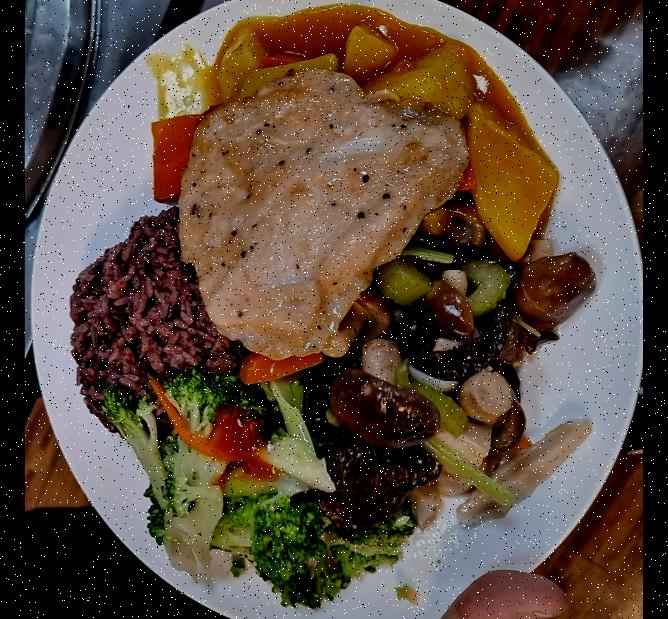grilled chicken steak: (170, 70, 472, 358)
plate: (33, 0, 643, 619)
purple rice: (64, 212, 244, 433)
side dish: (138, 23, 562, 256), (308, 211, 594, 524), (107, 378, 414, 606)
